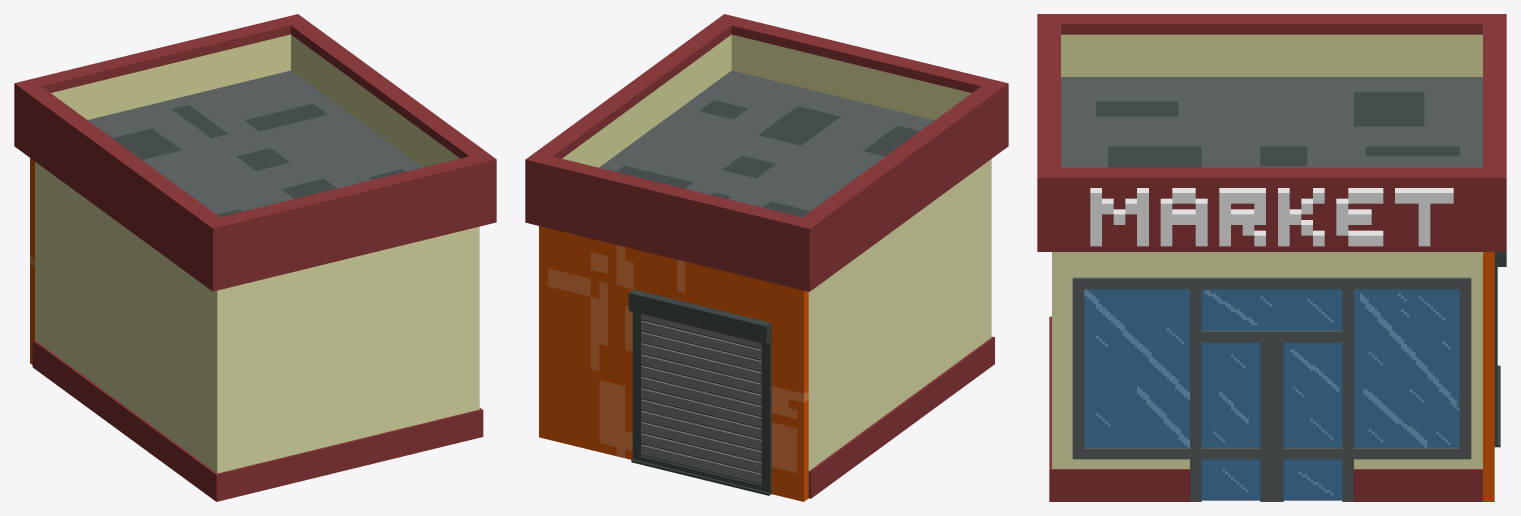
File: market.obj
The picture shows the model from 3 angles, left to right: view 1: azimuth 30°, elevation 25°; view 2: azimuth 150°, elevation 25°; view 3: azimuth 270°, elevation 25°; orthographic projection. The views are drawn at different scales.
Size of the model in its own units: 13.6 by 12.4 by 16.
Materials: 1 (1 with a texture image).
